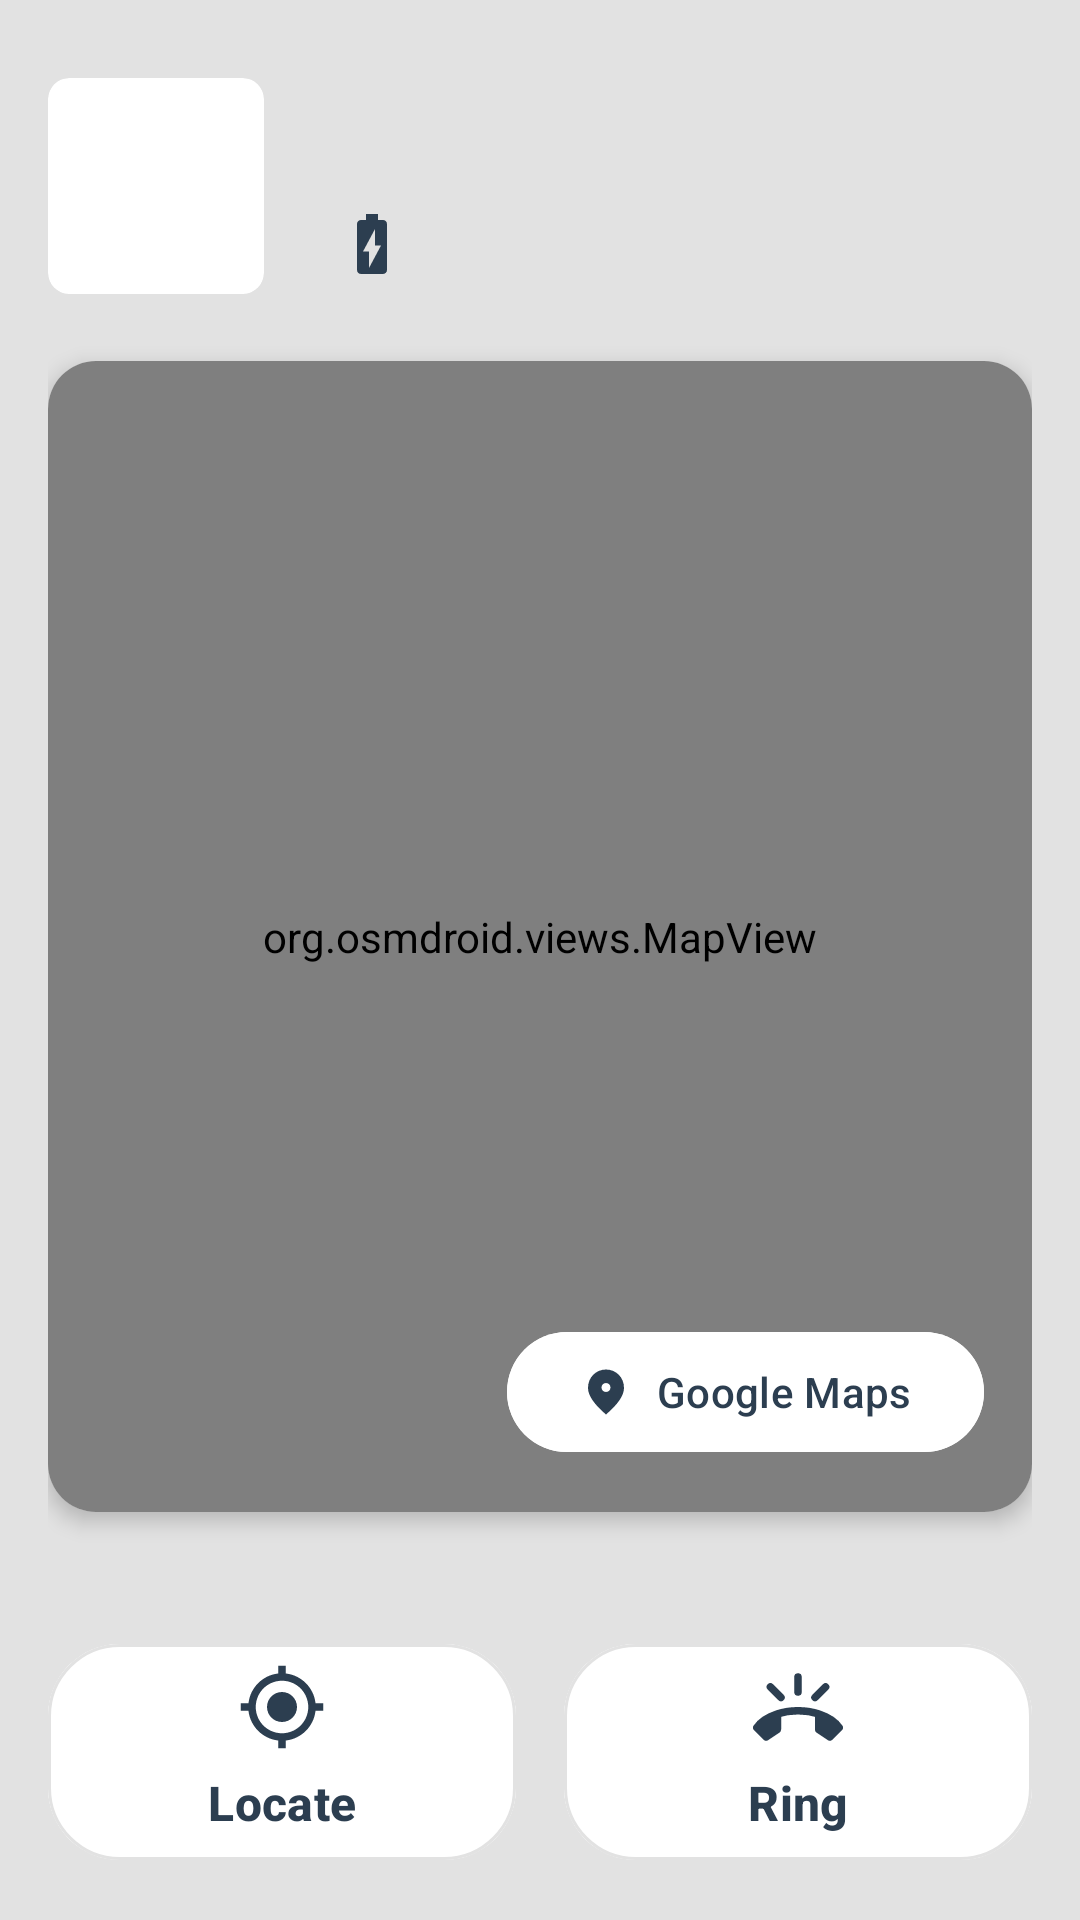

Icon bounding boxes for this 1080*1920 phone screenshot, format {"x1": x1, "y1": y1, "x2": x2, "y2": y2}:
Battery status icon: {"x1": 357, "y1": 214, "x2": 387, "y2": 274}
